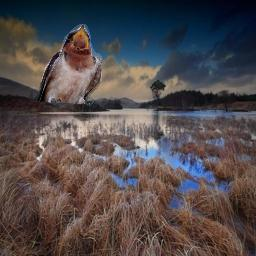Swallow: (38, 24, 102, 109)
